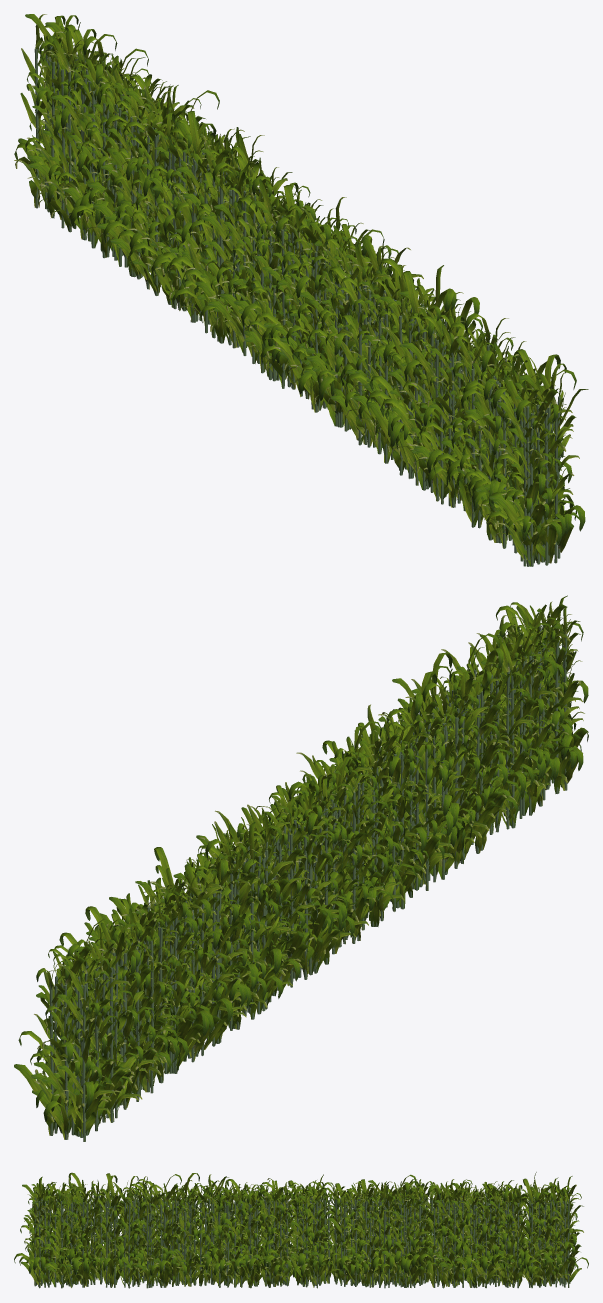
The model's file is milharal1x50_denso4.fbx.
The picture shows the model from 3 angles, top to bottom: view 1: azimuth 30°, elevation 25°; view 2: azimuth 150°, elevation 25°; view 3: azimuth 270°, elevation 25°; orthographic projection. The views are drawn at different scales.
Parts seen in each view (by area): view 1: Plantacao2; view 2: Plantacao2; view 3: Plantacao2.
Part boxes in pixels (x1,y1,x2,y2): Plantacao2: (14,14,588,566); Plantacao2: (14,595,588,1141); Plantacao2: (14,1172,588,1288).
Size of the model in its own units: 599 by 1125 by 5380.
